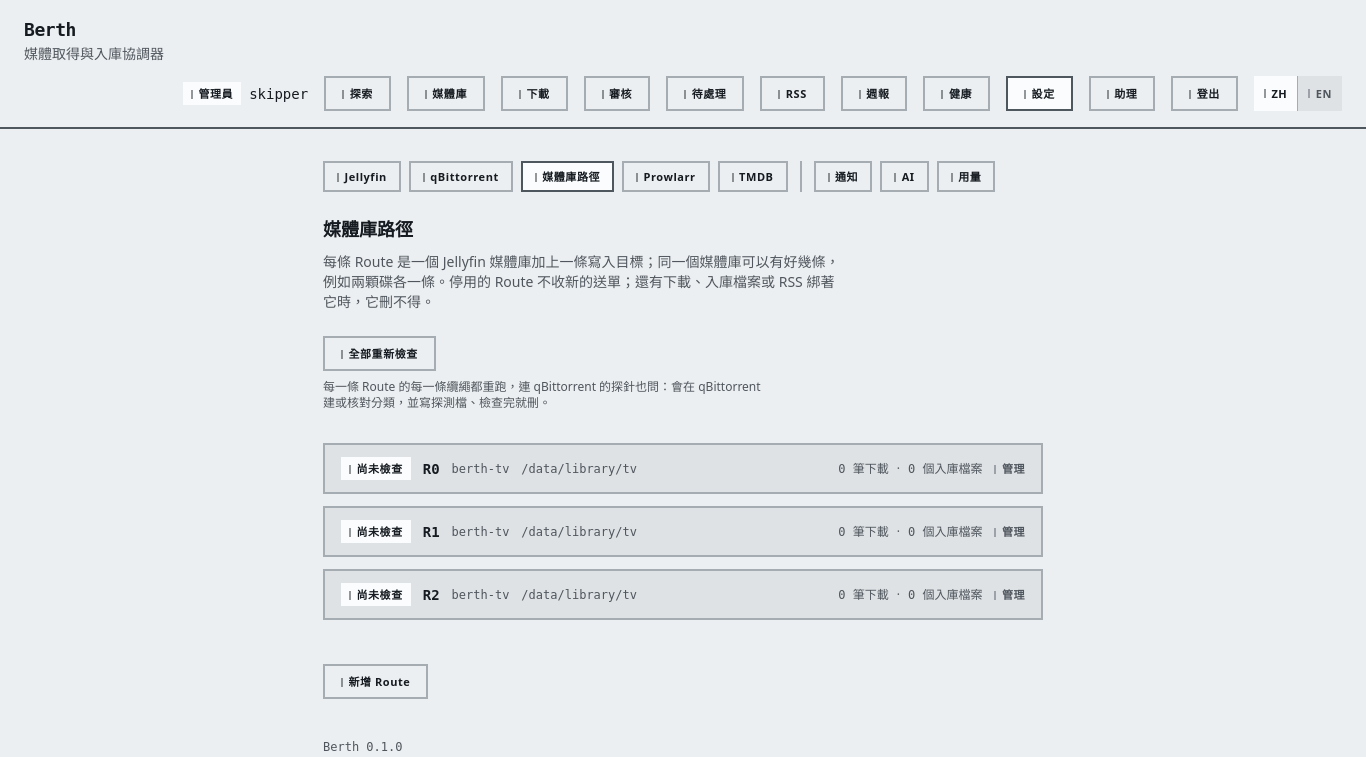
it: Route 設定頁的全部重新檢查 › 一次重跑每一條，跑完說一句
Click the button "全部重新檢查" at (379, 354), box [323,336,436,371]
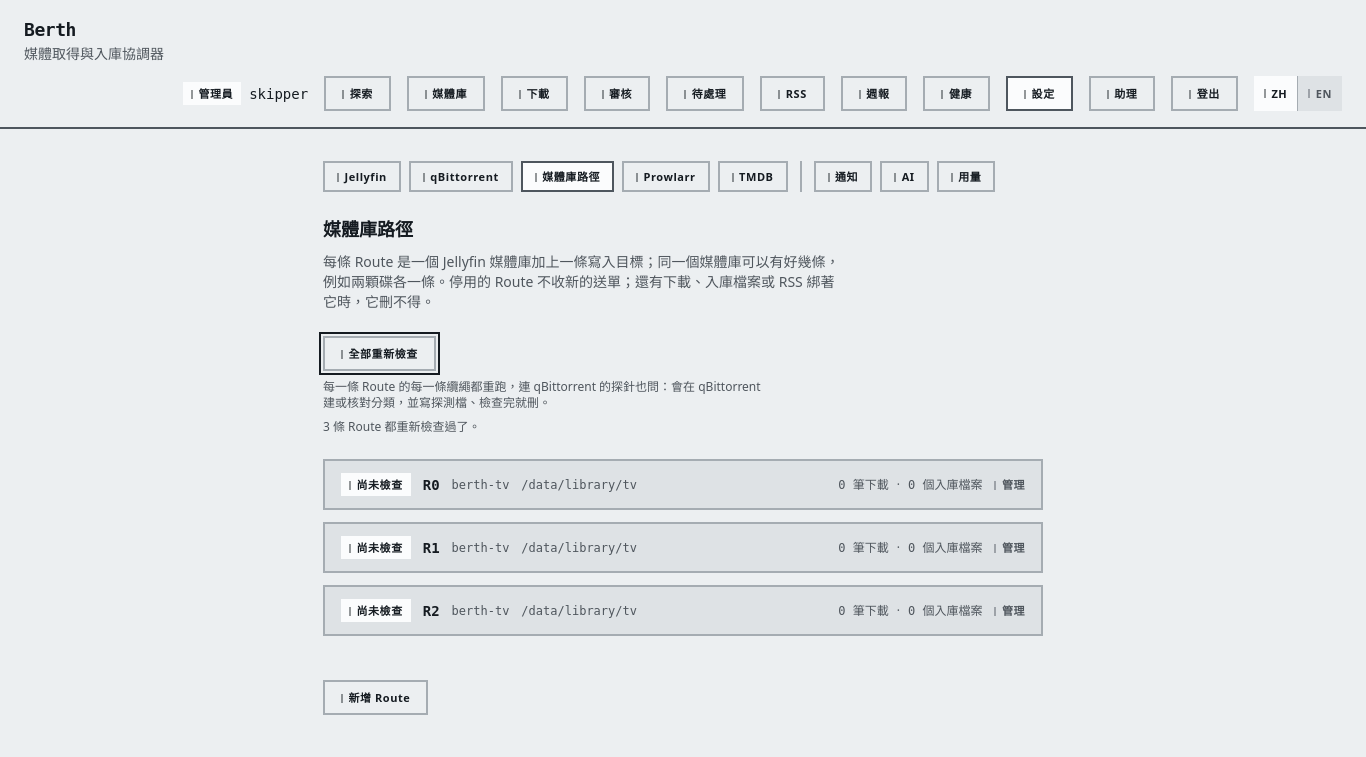
Now the text "3 條 Route 都重新檢查過了。" is shown, box [323,418,480,435]
